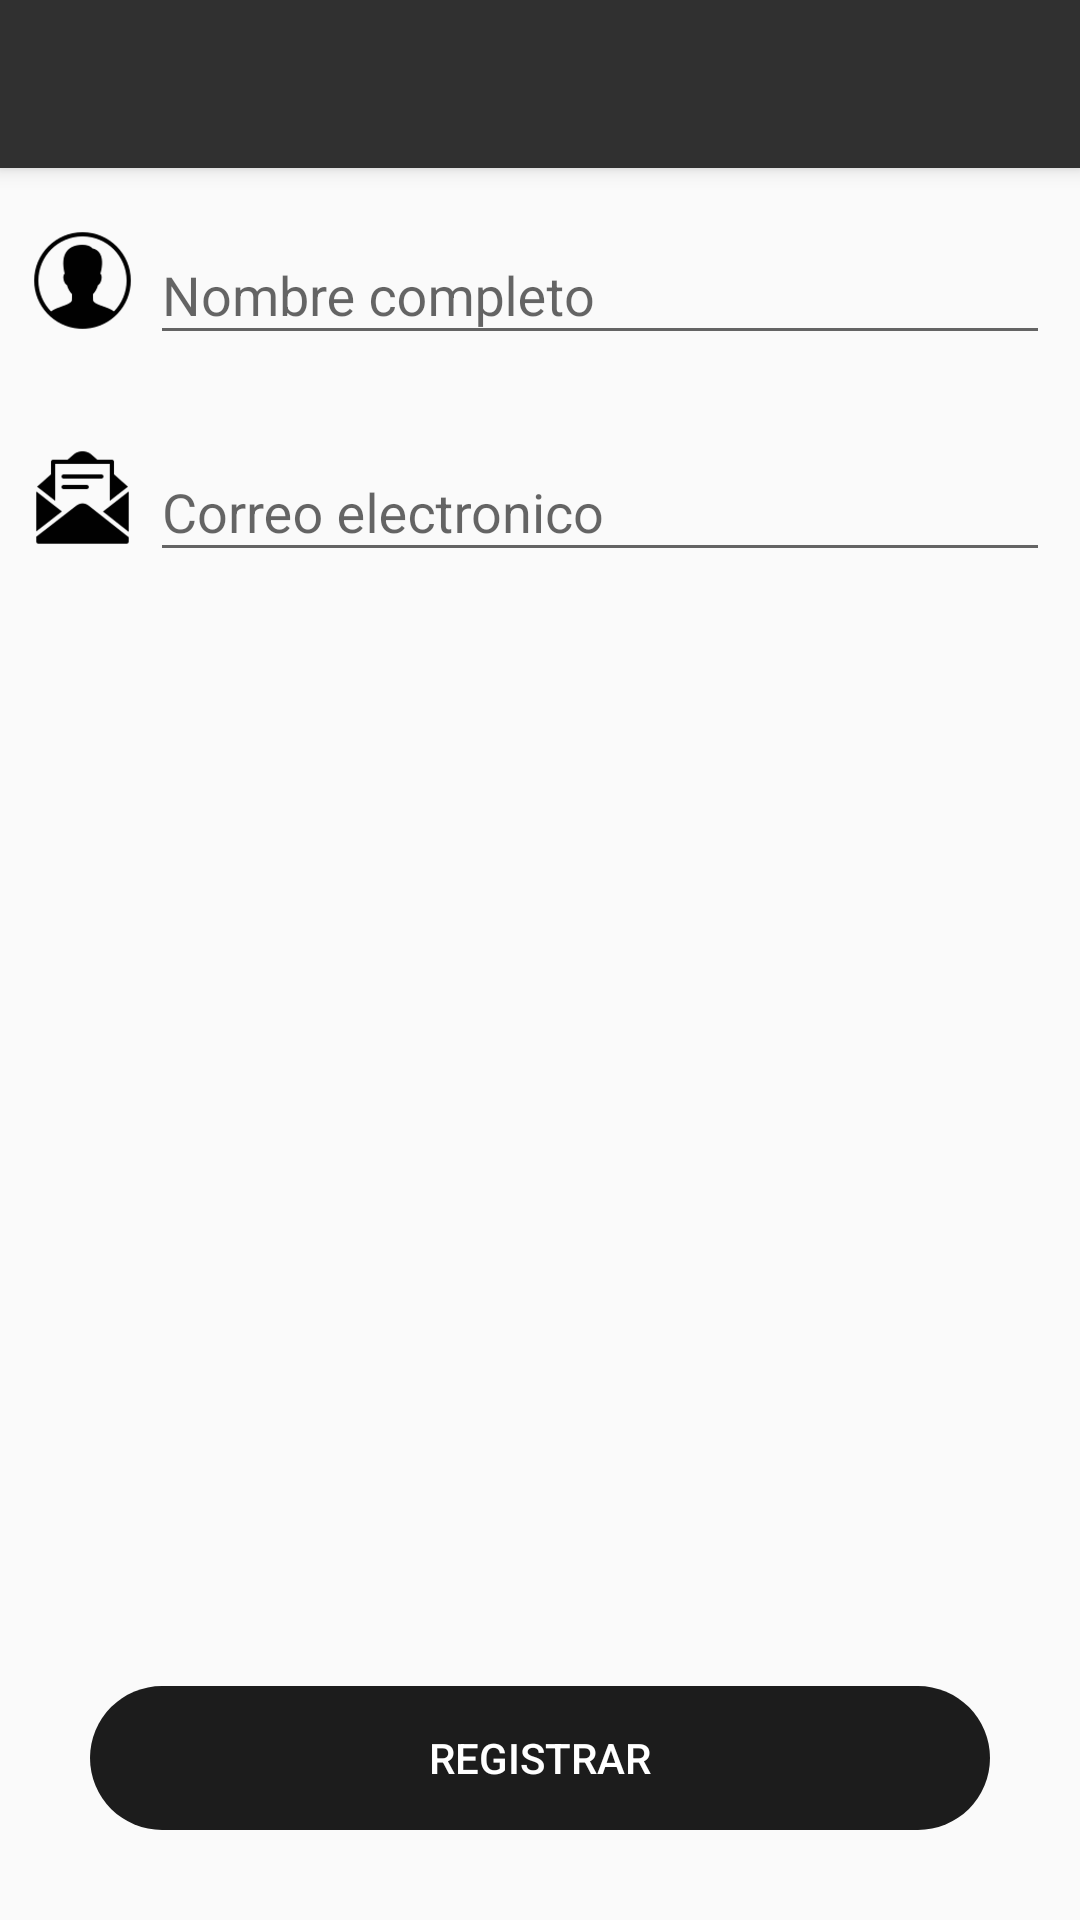

Screen size 1080×1920. Icon name, then its center in pixels as point (x, y):
email: point (82, 497)
user: point (82, 280)
